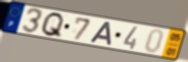0: (143, 28, 166, 55)
3: (21, 7, 44, 35)
4: (122, 25, 139, 50)
7: (74, 17, 92, 41)
A: (88, 21, 113, 47)
Q: (39, 12, 66, 40)
